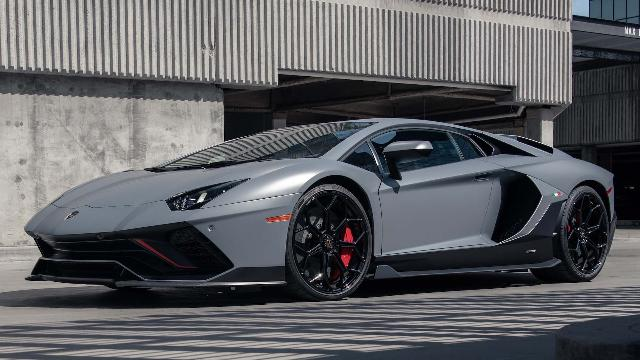lamborghini: (24, 118, 618, 300)
